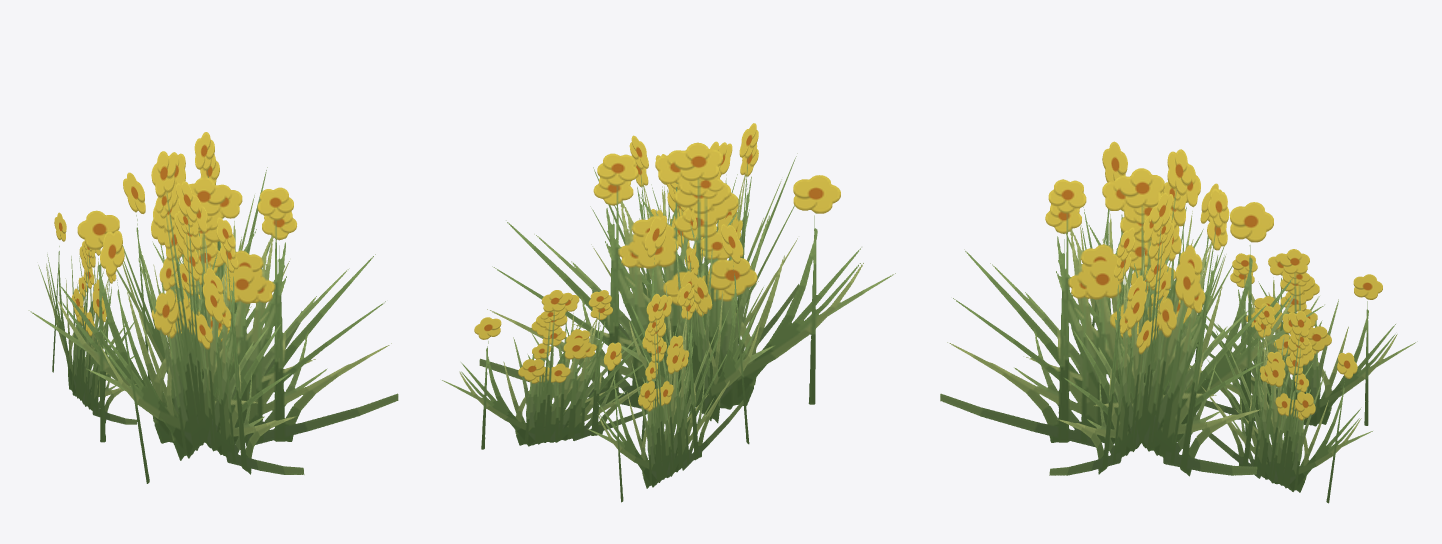
Rendered from wildflowers_yellow.glb.
3 renders of one model, left to right at view 1: azimuth 30°, elevation 25°; view 2: azimuth 150°, elevation 25°; view 3: azimuth 270°, elevation 25°, orthographic.
Visible parts, largest first — view 1: wildflowers_yellow; view 2: wildflowers_yellow; view 3: wildflowers_yellow.
Part boxes in pixels (bbox=[...]): wildflowers_yellow: bbox=[28, 132, 398, 483]; wildflowers_yellow: bbox=[442, 123, 895, 502]; wildflowers_yellow: bbox=[940, 141, 1417, 503].
Size of the model in its own units: 0.9293 by 0.893 by 1.14.
Materials: 1 (1 with a texture image).
